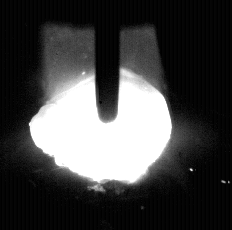arame: (95, 0, 122, 123)
poca: (28, 0, 173, 230)
